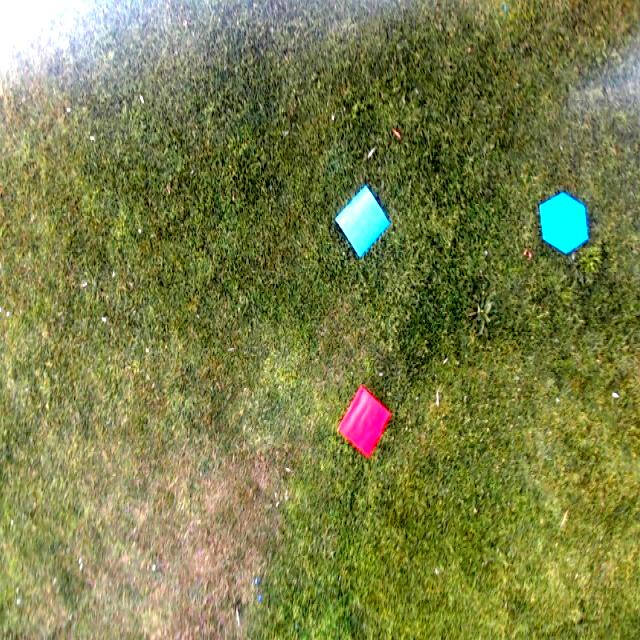blue_hexagon: (538, 190, 589, 256)
blue_square: (332, 184, 390, 257)
red_square: (336, 385, 392, 457)
